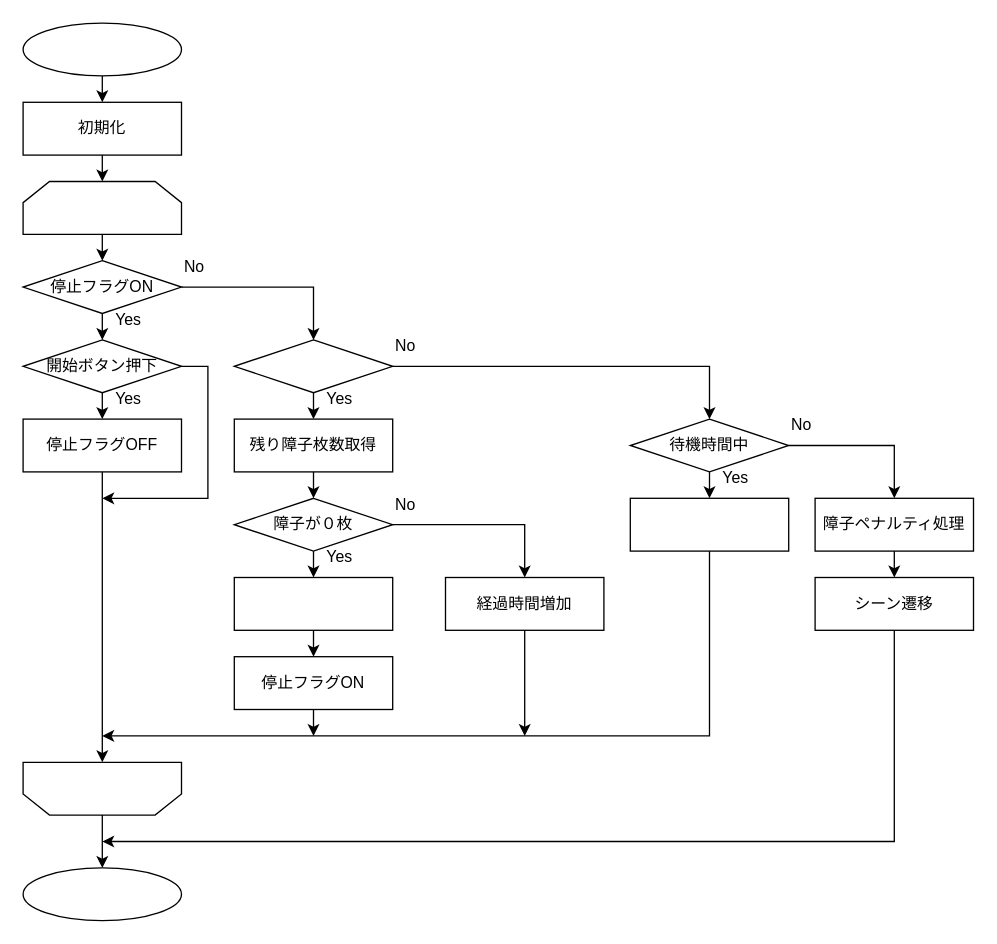
The diagram is 997 pixels wide and 944 high, and some of its shapes have lost their labels. Here are the shapes that lost their labels. From the top down, the box of each, then its label:
(22, 22, 182, 76): 開始
(22, 180, 182, 234): 更新
(233, 339, 393, 393): 制限時間内
(629, 497, 789, 551): 待機時間増加
(233, 576, 393, 630): タイムを記録
(22, 867, 182, 921): 終了
